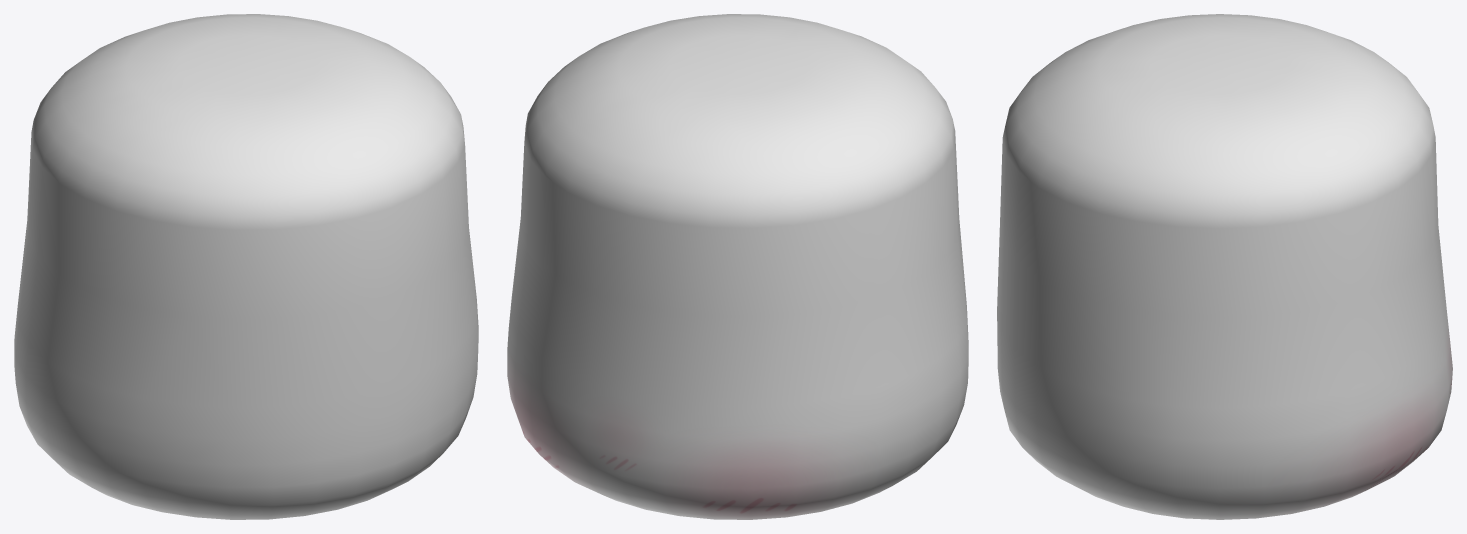
Rendered from 28-Cute-Big-Eyes-Face-Customizable-face.glb.
3 renders of one model, left to right at view 1: azimuth 30°, elevation 25°; view 2: azimuth 150°, elevation 25°; view 3: azimuth 270°, elevation 25°, orthographic.
Parts seen in each view (by area): view 1: 28-Cute-Big-Eyes-Face-Customizable-face; view 2: 28-Cute-Big-Eyes-Face-Customizable-face; view 3: 28-Cute-Big-Eyes-Face-Customizable-face.
Part boxes in pixels (x1=…): 28-Cute-Big-Eyes-Face-Customizable-face: x1=14, y1=14, x2=478, y2=519; 28-Cute-Big-Eyes-Face-Customizable-face: x1=507, y1=14, x2=968, y2=519; 28-Cute-Big-Eyes-Face-Customizable-face: x1=997, y1=14, x2=1452, y2=519.
Bounding box in the file's own units: 1.23 × 1.18 × 1.2.
1 material, 1 textured.
